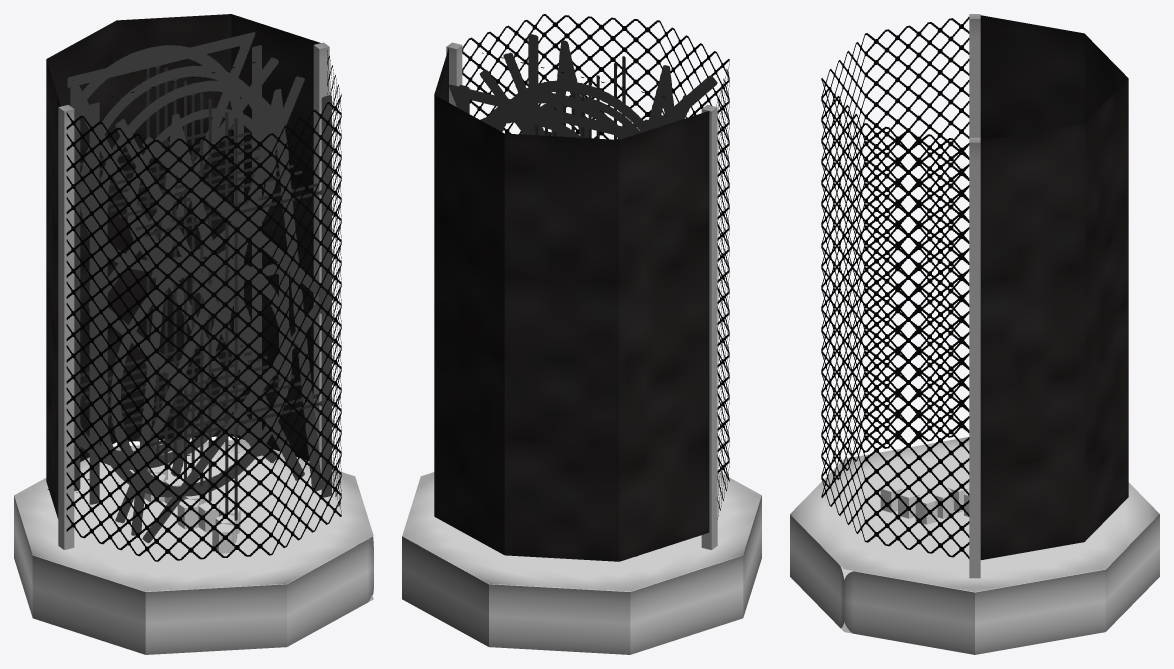
3 views of the same model, side by side, from view 1: azimuth 30°, elevation 25°; view 2: azimuth 150°, elevation 25°; view 3: azimuth 270°, elevation 25° (orthographic).
Visible parts, largest first — view 1: Cylinder002, Back, Front, Plane011, Plane010, Plane014, Plane013, Plane004, Plane005, Plane007, Box002, Plane006 (+3 smaller); view 2: Back, Cylinder002, Front, Box002, Plane008, Plane011, Plane004, Plane010, Plane006, Plane009, Plane013, Plane014 (+2 smaller); view 3: Back, Cylinder002, Front, Box001, Box002.
Part boxes in pixels (x1=…): Cylinder002: x1=14, y1=439, x2=373, y2=654; Back: x1=46, y1=14, x2=320, y2=518; Front: x1=66, y1=50, x2=341, y2=561; Plane011: x1=131, y1=88, x2=321, y2=535; Plane010: x1=142, y1=95, x2=332, y2=543; Plane014: x1=110, y1=93, x2=294, y2=496; Plane013: x1=115, y1=76, x2=304, y2=523; Plane004: x1=93, y1=52, x2=293, y2=497; Plane005: x1=88, y1=57, x2=278, y2=504; Plane007: x1=70, y1=45, x2=261, y2=491; Box002: x1=58, y1=105, x2=74, y2=549; Plane006: x1=79, y1=65, x2=267, y2=476; Back: x1=434, y1=48, x2=709, y2=561; Cylinder002: x1=402, y1=472, x2=761, y2=654; Front: x1=462, y1=14, x2=729, y2=518; Box002: x1=701, y1=105, x2=717, y2=549; Plane008: x1=449, y1=84, x2=637, y2=137; Plane011: x1=551, y1=40, x2=674, y2=139; Plane004: x1=482, y1=52, x2=682, y2=137; Plane010: x1=528, y1=34, x2=717, y2=136; Plane006: x1=488, y1=92, x2=625, y2=139; Plane009: x1=480, y1=111, x2=637, y2=556; Plane013: x1=503, y1=52, x2=692, y2=138; Plane014: x1=520, y1=81, x2=639, y2=138; Back: x1=980, y1=15, x2=1128, y2=560; Cylinder002: x1=790, y1=437, x2=1159, y2=654; Front: x1=821, y1=17, x2=969, y2=558; Box001: x1=969, y1=137, x2=980, y2=578; Box002: x1=969, y1=14, x2=980, y2=137.
Bounding box in the file's own units: 2.56 × 3.81 × 2.56.
